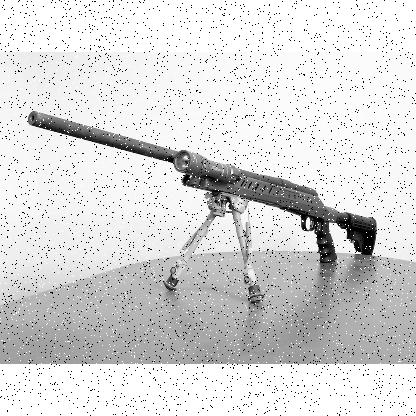gun: (27, 111, 376, 303)
